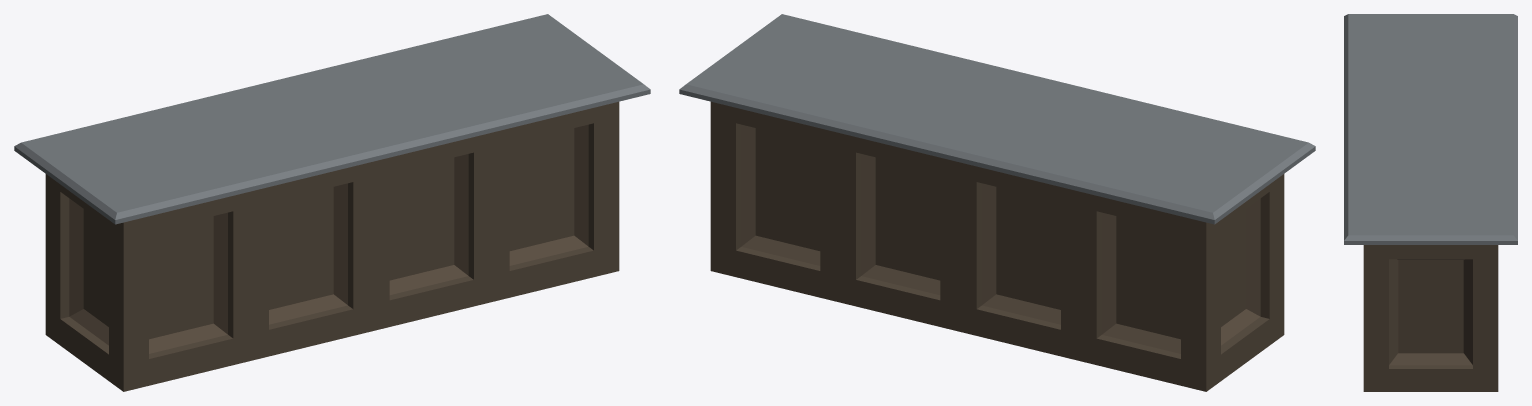
Rendered from TEMP_Table_3.fbx.
The picture shows the model from 3 angles, left to right: view 1: azimuth 30°, elevation 25°; view 2: azimuth 150°, elevation 25°; view 3: azimuth 270°, elevation 25°; orthographic projection. The views are drawn at different scales.
Visible parts, largest first — view 1: Table_4; view 2: Table_4; view 3: Table_4.
Part boxes in pixels (x1,y1,x2,y2): Table_4: [14, 14, 650, 391]; Table_4: [679, 14, 1315, 391]; Table_4: [1344, 14, 1517, 391].
Size of the model in its own units: 16.19 by 5.48 by 5.29.
